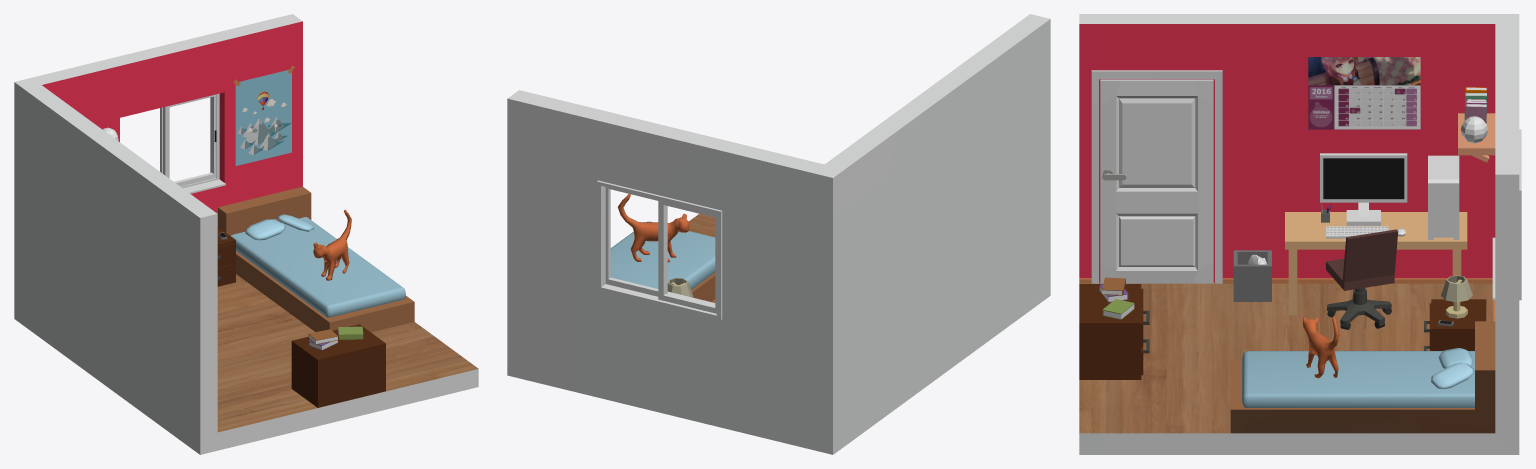
3 views of the same model, side by side, from view 1: azimuth 30°, elevation 25°; view 2: azimuth 150°, elevation 25°; view 3: azimuth 270°, elevation 25° (orthographic). The views are drawn at different scales.
Parts seen in each view (by area): view 1: Cube.002_UberTexture_0, Cube.002_Floor_0; view 2: Cube.002_UberTexture_0; view 3: Cube.002_UberTexture_0, Cube.002_Floor_0.
Part boxes in pixels (left/top/right/bottom): Cube.002_UberTexture_0: left=14, top=14, right=478, bottom=454; Cube.002_Floor_0: left=217, top=274, right=478, bottom=431; Cube.002_UberTexture_0: left=507, top=14, right=1050, bottom=454; Cube.002_UberTexture_0: left=1079, top=14, right=1521, bottom=454; Cube.002_Floor_0: left=1079, top=282, right=1493, bottom=433.
Size of the model in its own units: 320 by 260 by 372.
Materials: 3 (2 with a texture image).
